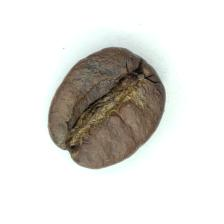NG: (69, 64, 146, 145)
